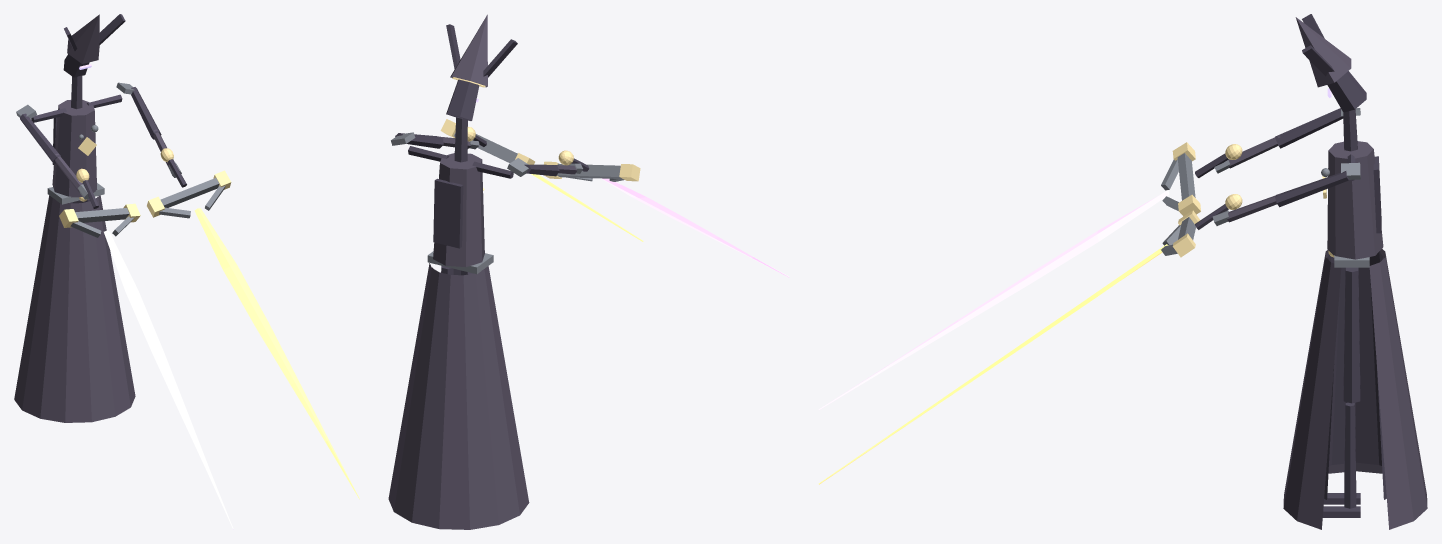
File: boss-sulyvahn.glb
3 views of the same model, side by side, from view 1: azimuth 30°, elevation 25°; view 2: azimuth 150°, elevation 25°; view 3: azimuth 270°, elevation 25° (orthographic). The views are drawn at different scales.
Visible parts, largest first — view 1: sulSkirt1, sulSwordR_s_fire, sulTorso_s_cloth, sulSwordL_s_darkflame, sulSwordR_s_steel, sulHead_s_cloth, sulSwordL_s_steel, sulTorso_s_dark, sulHead_s_dark, sulSwordL_s_gold, sulSwordR_s_gold, sulArmL_s_dark (+2 smaller); view 2: sulSkirt1, sulTorso_s_cloth, sulTorso_s_dark, sulHead_s_dark, sulHead_s_cloth, sulSwordL_s_darkflame, sulSwordL_s_steel, sulSwordL_s_gold, sulTorso_s_steel, sulSwordR_s_steel; view 3: sulSkirt1, sulSkirt0, sulTorso_s_cloth, sulSwordL_s_darkflame, sulLegR_s_dark, sulShinR_s_dark, sulHead_s_dark, sulSwordR_s_fire, sulHead_s_cloth, sulTorso_s_dark, sulSwordL_s_steel, sulArmR_s_dark (+3 smaller).
Boxes of the visible parts, left/top/right/bottom form: sulSkirt1: left=14, top=195, right=135, bottom=422; sulSwordR_s_fire: left=194, top=208, right=359, bottom=498; sulTorso_s_cloth: left=52, top=100, right=97, bottom=197; sulSwordL_s_darkflame: left=104, top=230, right=233, bottom=529; sulSwordR_s_steel: left=159, top=178, right=225, bottom=218; sulHead_s_cloth: left=67, top=14, right=99, bottom=63; sulSwordL_s_steel: left=70, top=208, right=133, bottom=237; sulTorso_s_dark: left=31, top=75, right=122, bottom=165; sulHead_s_dark: left=63, top=14, right=125, bottom=77; sulSwordL_s_gold: left=59, top=168, right=140, bottom=227; sulSwordR_s_gold: left=147, top=148, right=231, bottom=217; sulArmL_s_dark: left=20, top=113, right=61, bottom=163; sulSkirt1: left=388, top=263, right=529, bottom=529; sulTorso_s_cloth: left=433, top=153, right=484, bottom=267; sulTorso_s_dark: left=408, top=117, right=513, bottom=248; sulHead_s_dark: left=446, top=24, right=517, bottom=120; sulHead_s_cloth: left=450, top=14, right=487, bottom=87; sulSwordL_s_darkflame: left=601, top=178, right=789, bottom=277; sulSwordL_s_steel: left=557, top=163, right=624, bottom=181; sulSwordL_s_gold: left=544, top=150, right=640, bottom=181; sulTorso_s_steel: left=391, top=132, right=528, bottom=176; sulSwordR_s_steel: left=454, top=132, right=517, bottom=162; sulSkirt1: left=1283, top=249, right=1427, bottom=529; sulSkirt0: left=1324, top=251, right=1386, bottom=499; sulTorso_s_cloth: left=1327, top=141, right=1383, bottom=259; sulSwordL_s_darkflame: left=818, top=190, right=1169, bottom=409; sulLegR_s_dark: left=1343, top=267, right=1360, bottom=403; sulShinR_s_dark: left=1322, top=402, right=1360, bottom=517; sulHead_s_dark: left=1302, top=14, right=1366, bottom=112; sulSwordR_s_fire: left=818, top=244, right=1168, bottom=484; sulHead_s_cloth: left=1295, top=17, right=1351, bottom=87; sulTorso_s_dark: left=1343, top=109, right=1381, bottom=233; sulSwordL_s_steel: left=1161, top=153, right=1195, bottom=210; sulArmR_s_dark: left=1275, top=171, right=1349, bottom=207.
Bounding box in the file's own units: 1.32 × 3.1 × 3.48.
